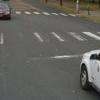Car: (72, 43, 100, 100)
